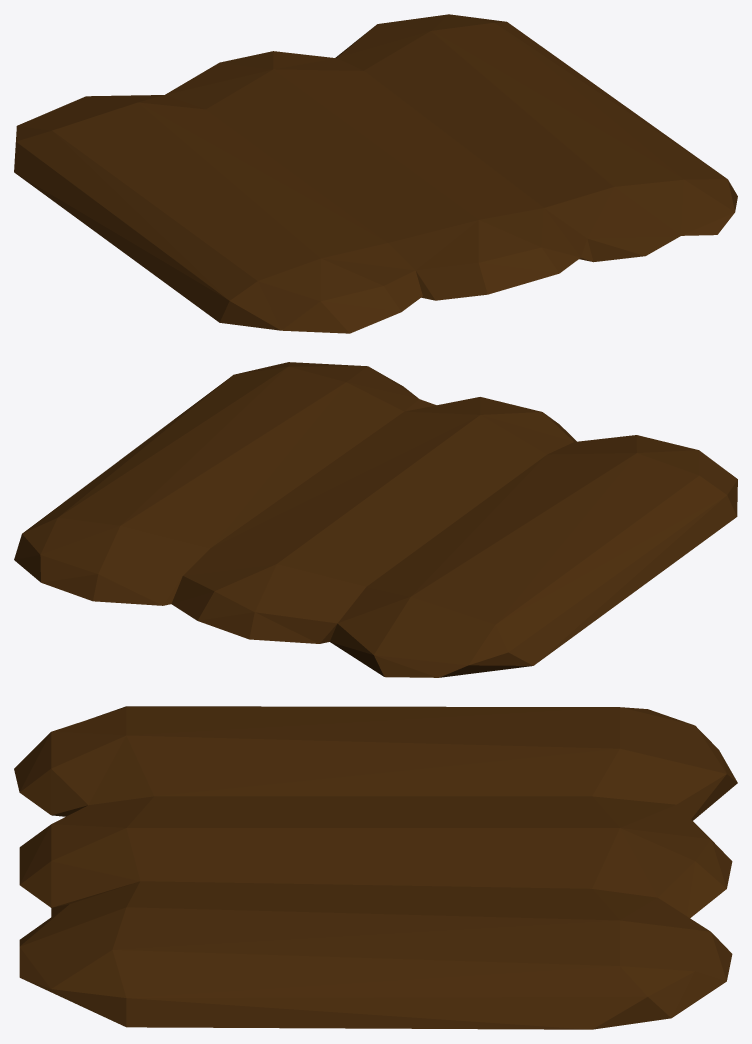
File: FarmGround.fbx
3 views of the same model, one above another, from view 1: azimuth 30°, elevation 25°; view 2: azimuth 150°, elevation 25°; view 3: azimuth 270°, elevation 25° (orthographic). The views are drawn at different scales.
Visible parts, largest first — view 1: FarmGround; view 2: FarmGround; view 3: FarmGround.
Part boxes in pixels (left/top/right/bottom): FarmGround: left=14, top=14, right=737, bottom=333; FarmGround: left=14, top=362, right=737, bottom=677; FarmGround: left=14, top=706, right=737, bottom=1029.
Bounding box in the file's own units: 99.24 × 7.2 × 99.24.
